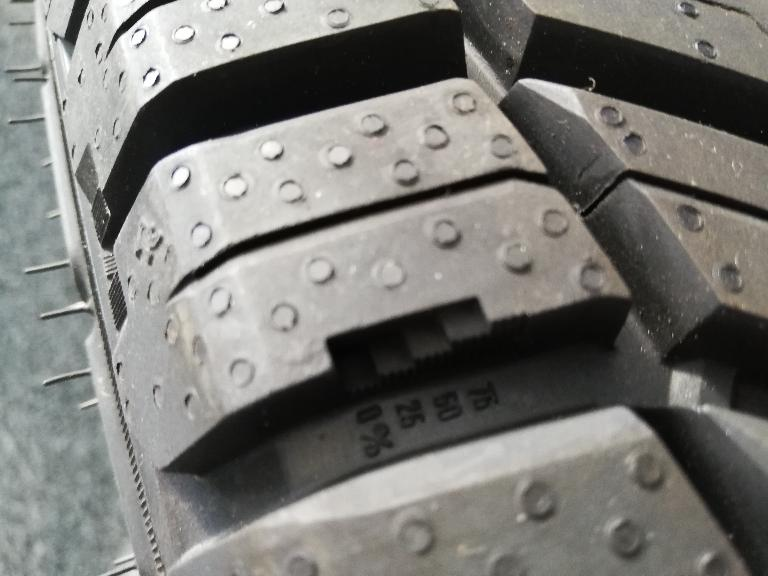temoin:100: (321, 293, 533, 413)
